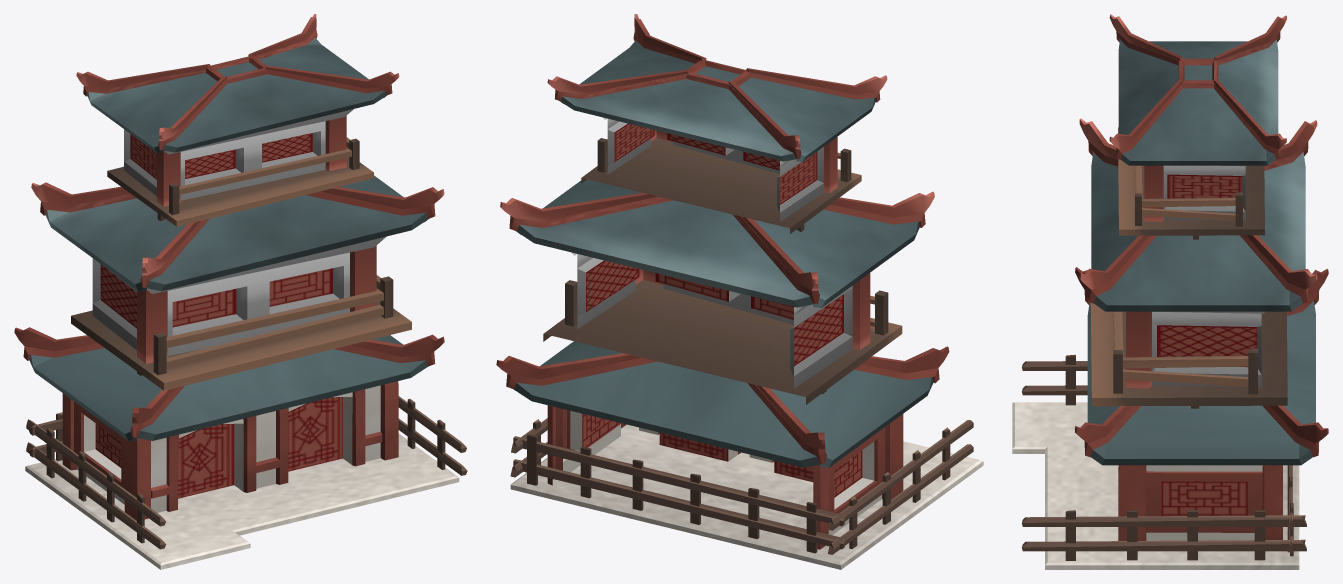
File: camp_3lvl.fbx
3 views of the same model, side by side, from view 1: azimuth 30°, elevation 25°; view 2: azimuth 150°, elevation 25°; view 3: azimuth 270°, elevation 25° (orthographic). The views are drawn at different scales.
Visible parts, largest first — view 1: camp_3lvl1; view 2: camp_3lvl1; view 3: camp_3lvl1.
Boxes of the visible parts, x1=… form: camp_3lvl1: x1=14, y1=14, x2=467, y2=569; camp_3lvl1: x1=496, y1=14, x2=983, y2=569; camp_3lvl1: x1=1012, y1=14, x2=1328, y2=569.
Bounding box in the file's own units: 6.04 × 7.3 × 4.94.
